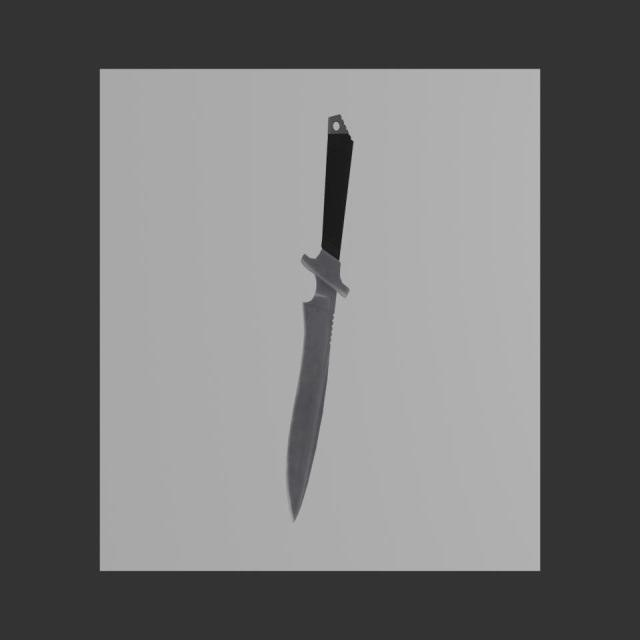knife: (321, 114, 354, 260)
